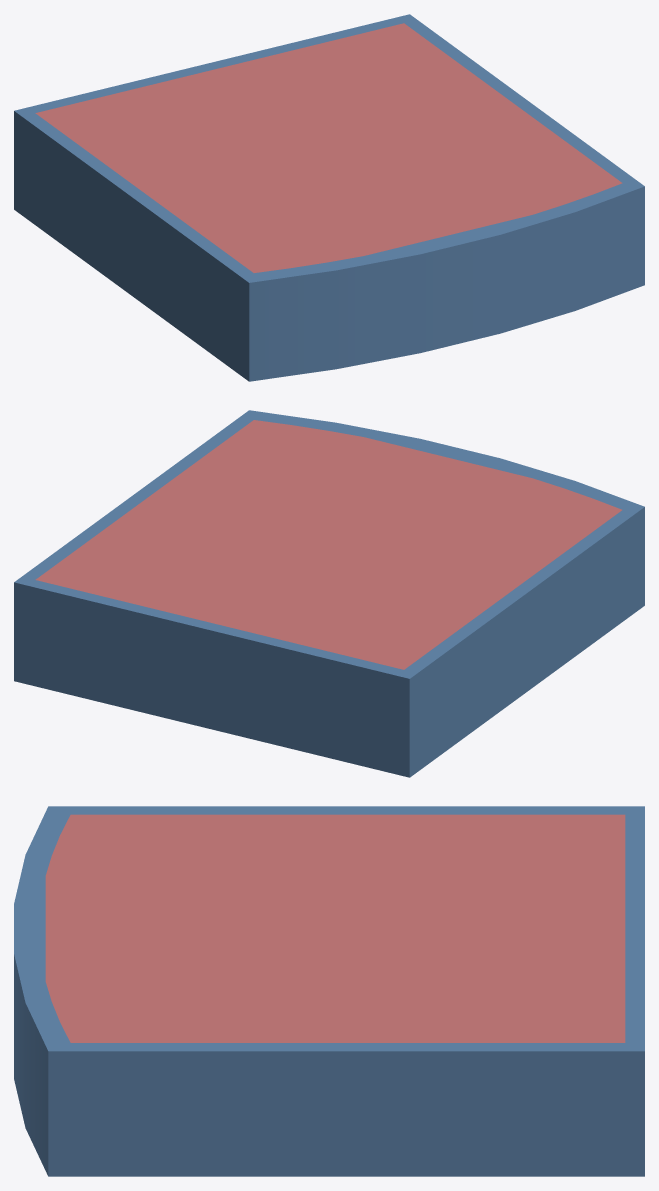
File: step_02.glb
The picture shows the model from 3 angles, top to bottom: view 1: azimuth 30°, elevation 25°; view 2: azimuth 150°, elevation 25°; view 3: azimuth 270°, elevation 25°; orthographic projection. The views are drawn at different scales.
Visible parts, largest first — view 1: removed__dispensing drawer, part__dispensing drawer; view 2: removed__dispensing drawer, part__dispensing drawer; view 3: removed__dispensing drawer, part__dispensing drawer.
Part boxes in pixels (box(x1,y1,x2,y2)): removed__dispensing drawer: box(35, 23, 622, 272); part__dispensing drawer: box(14, 14, 644, 381); removed__dispensing drawer: box(35, 420, 621, 669); part__dispensing drawer: box(14, 410, 644, 777); removed__dispensing drawer: box(45, 814, 625, 1042); part__dispensing drawer: box(14, 806, 644, 1176).
Size of the model in its own units: 44 by 10.5 by 47.89.
